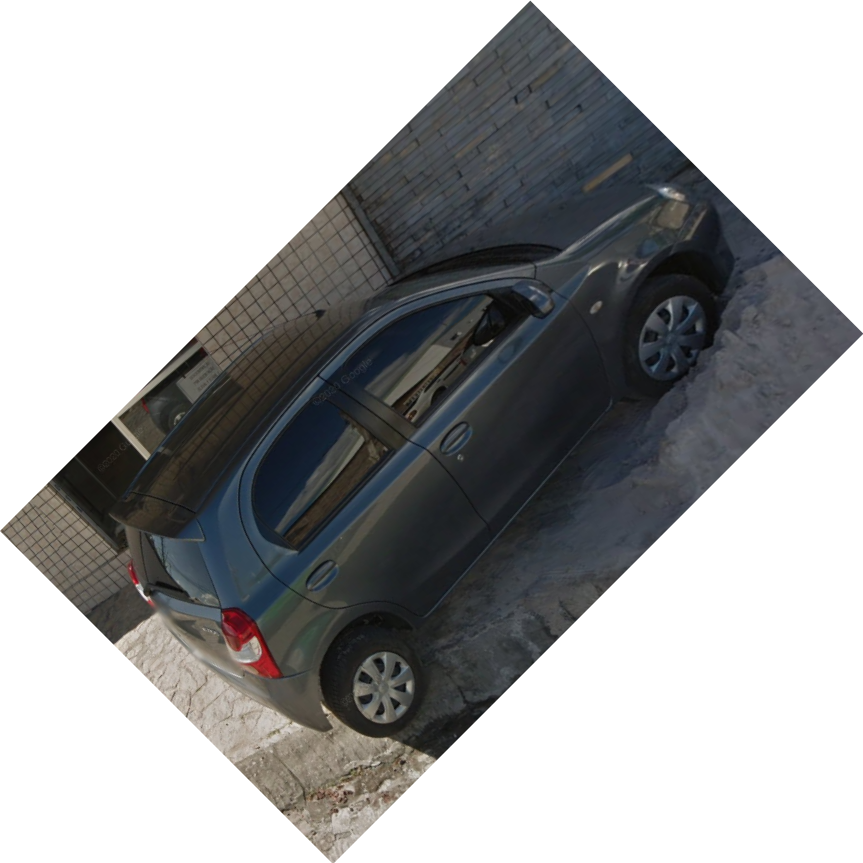car: (104, 177, 737, 739)
